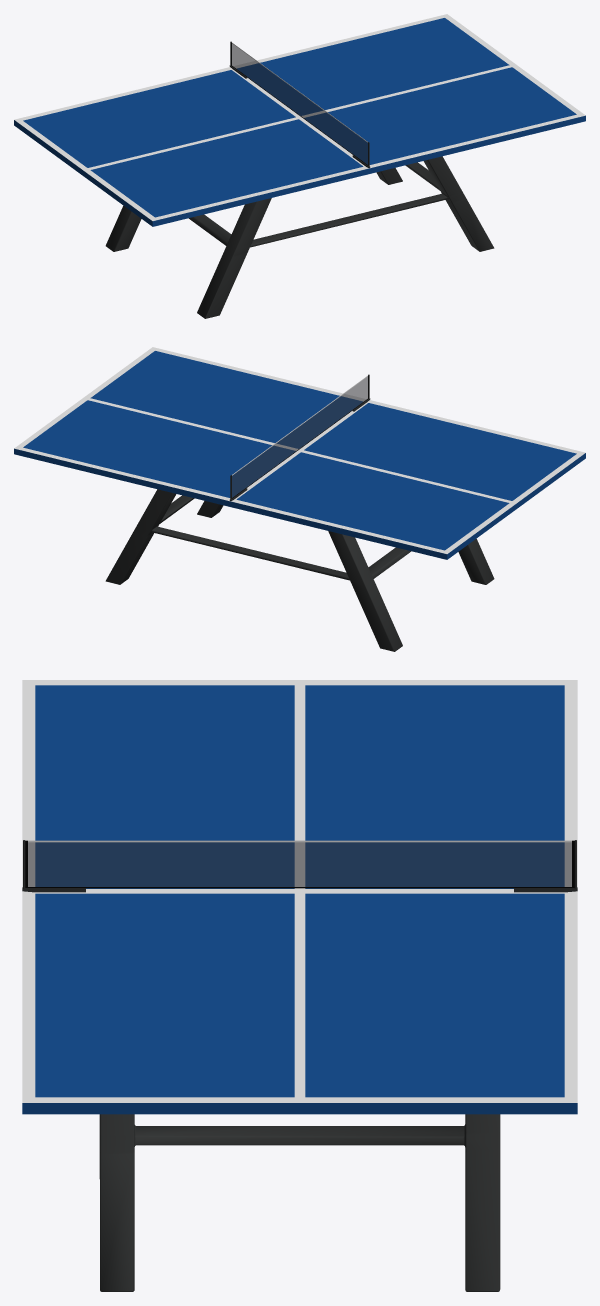
The model's file is table-tennis.low.glb.
The picture shows the model from 3 angles, top to bottom: view 1: azimuth 30°, elevation 25°; view 2: azimuth 150°, elevation 25°; view 3: azimuth 270°, elevation 25°; orthographic projection. The views are drawn at different scales.
Parts seen in each view (by area): view 1: Object_4, Object_7, Object_5, net; view 2: Object_4, Object_7, Object_5, net; view 3: Object_4, Object_5, net, Object_7, Object_14.
Boxes of the visible parts, bbox=[...] form: Object_4: bbox=[14, 18, 585, 226]; Object_7: bbox=[105, 41, 494, 318]; Object_5: bbox=[14, 14, 585, 220]; net: bbox=[232, 43, 367, 164]; Object_4: bbox=[14, 351, 585, 559]; Object_7: bbox=[105, 374, 494, 651]; Object_5: bbox=[14, 347, 585, 553]; net: bbox=[232, 376, 367, 497]; Object_4: bbox=[22, 685, 577, 1114]; Object_5: bbox=[22, 680, 577, 1102]; net: bbox=[28, 842, 571, 886]; Object_7: bbox=[22, 840, 577, 1291]; Object_14: bbox=[25, 840, 574, 888].
Bounding box in the file's own units: 2.74 × 0.9378 × 1.52.
